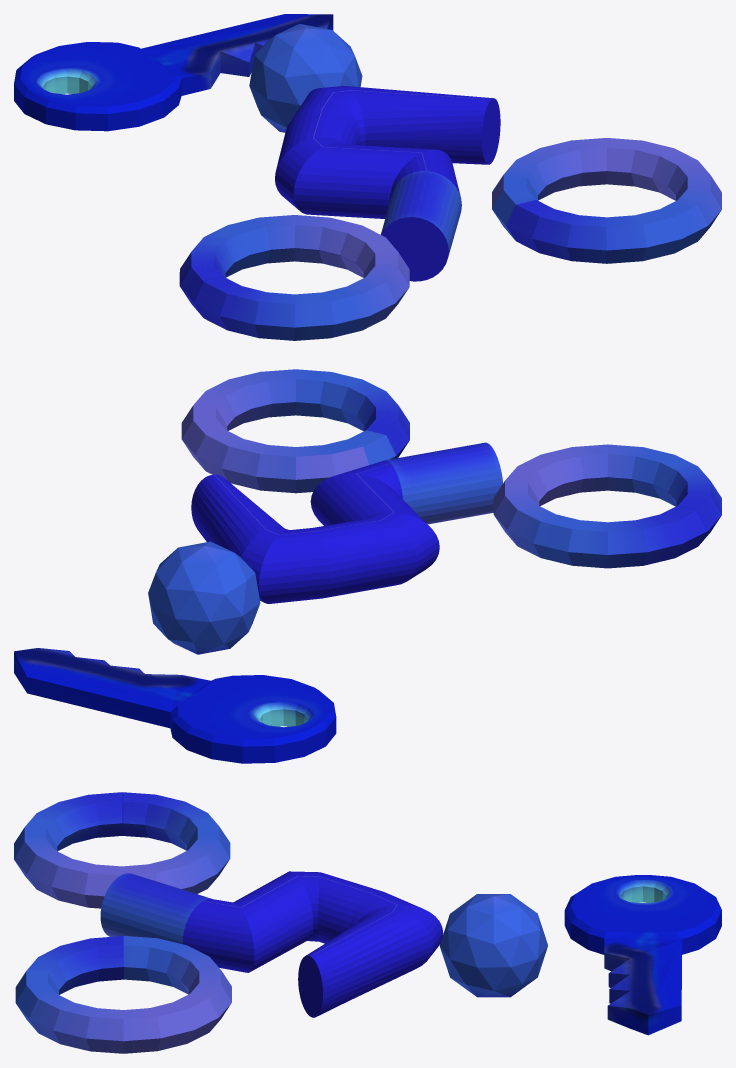
File: model_rented_bike.obj
The picture shows the model from 3 angles, top to bottom: view 1: azimuth 30°, elevation 25°; view 2: azimuth 150°, elevation 25°; view 3: azimuth 270°, elevation 25°; orthographic projection. The views are drawn at different scales.
Parts seen in each view (by area): view 1: Bike_Torus, Key_Key_Circle; view 2: Bike_Torus, Key_Key_Circle; view 3: Bike_Torus, Key_Key_Circle.
Part boxes in pixels (x1,y1,x2,y2): Bike_Torus: (179, 24, 721, 340); Key_Key_Circle: (14, 14, 333, 131); Bike_Torus: (148, 369, 721, 654); Key_Key_Circle: (14, 648, 336, 763); Bike_Torus: (14, 792, 547, 1053); Key_Key_Circle: (564, 875, 721, 1035).
Size of the model in its own units: 1.67 by 0.324 by 2.11.
Materials: 1 (1 with a texture image).
